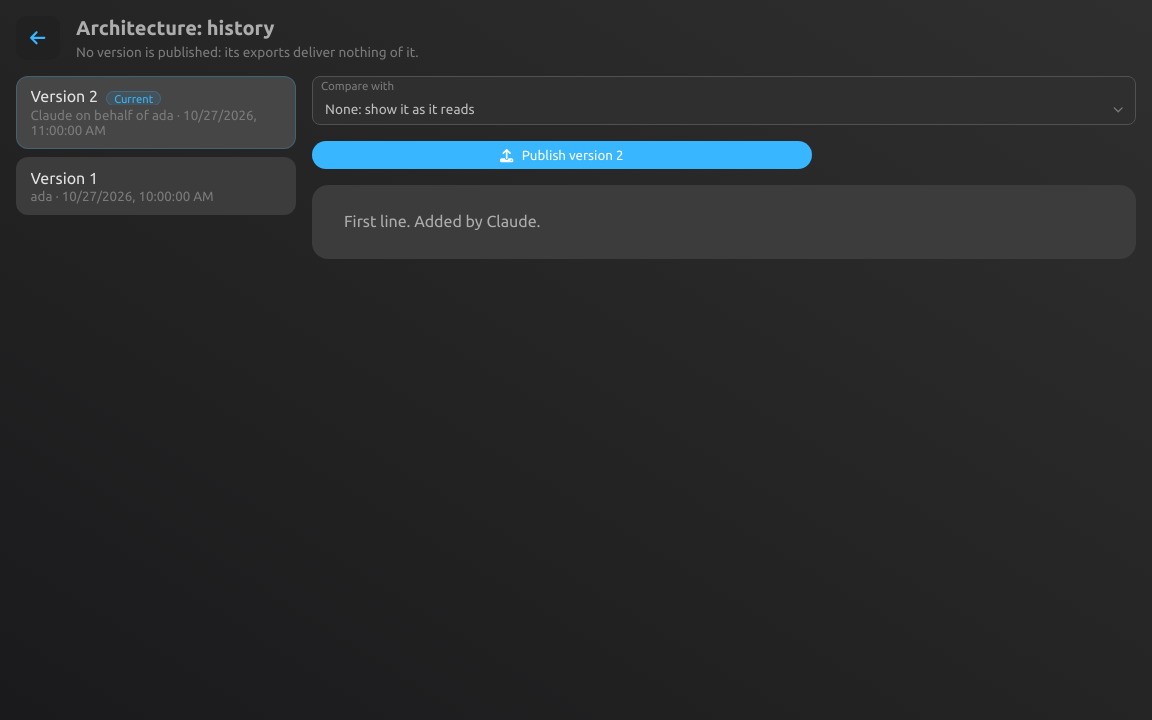
Test: DocumentHistory › publishes the version chosen: what its exports deliver
Click the list item with test id "version-1": (156, 186) [16,157,296,215]
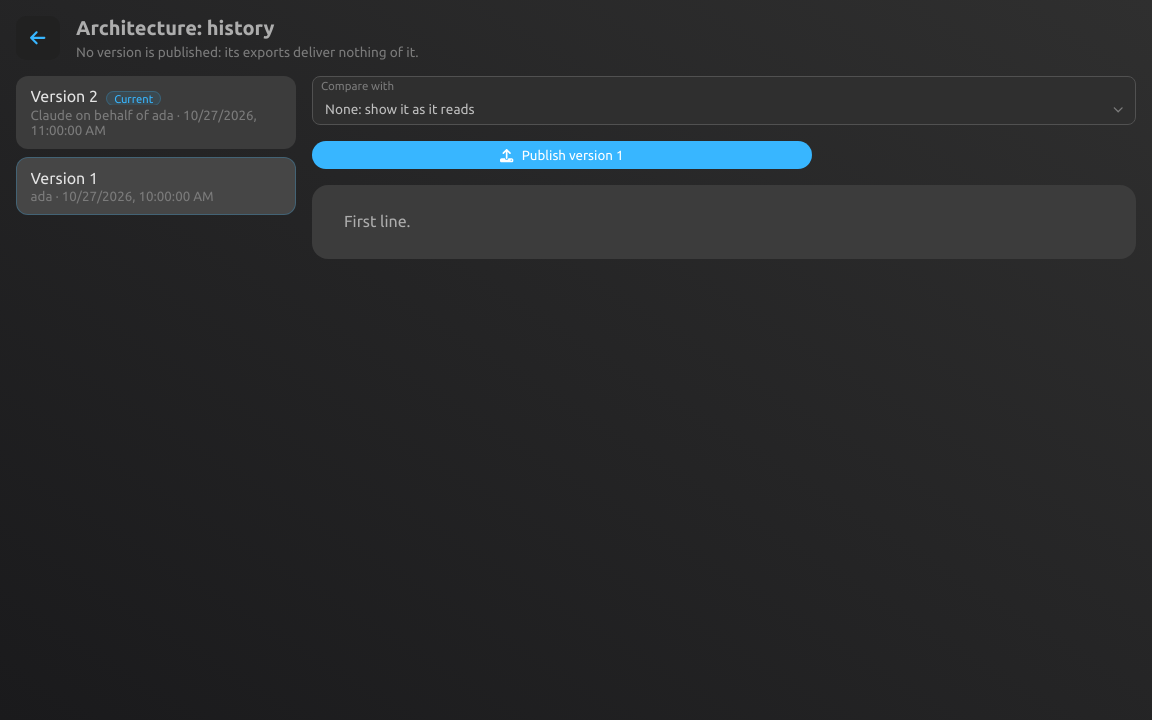
Click the button "Publish version 1": (562, 155) [312,141,812,169]
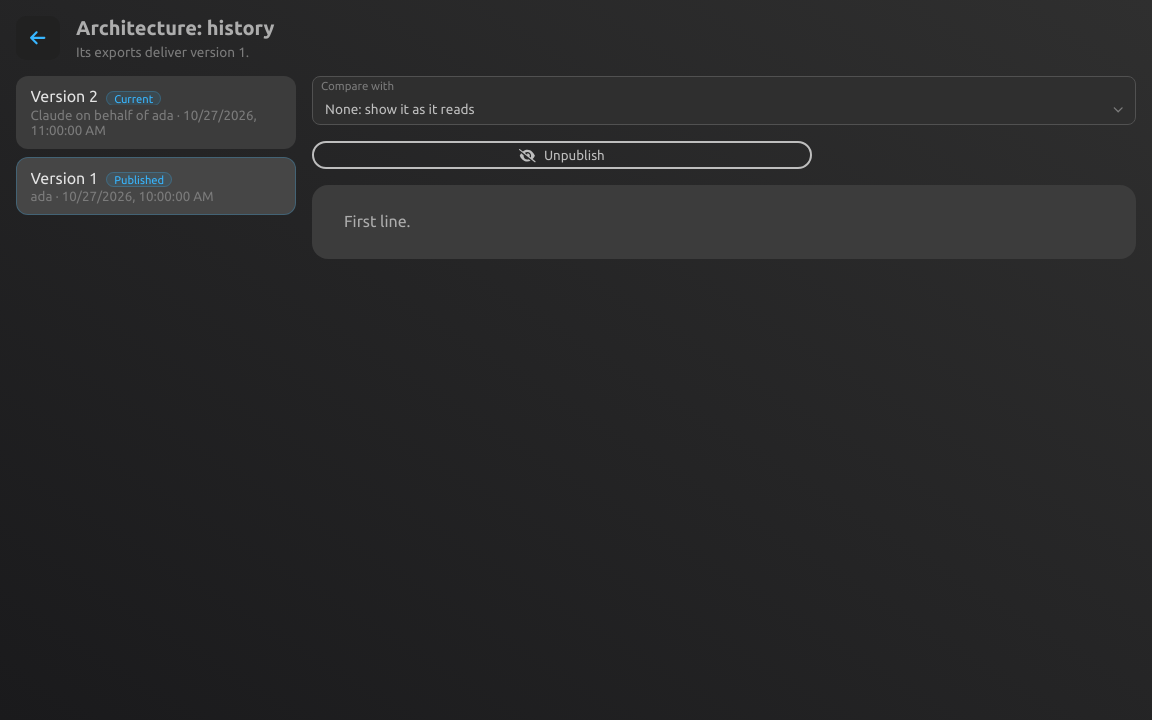
Expected: the list item with test id "version-1" shows "Published", [114,174,164,186]
